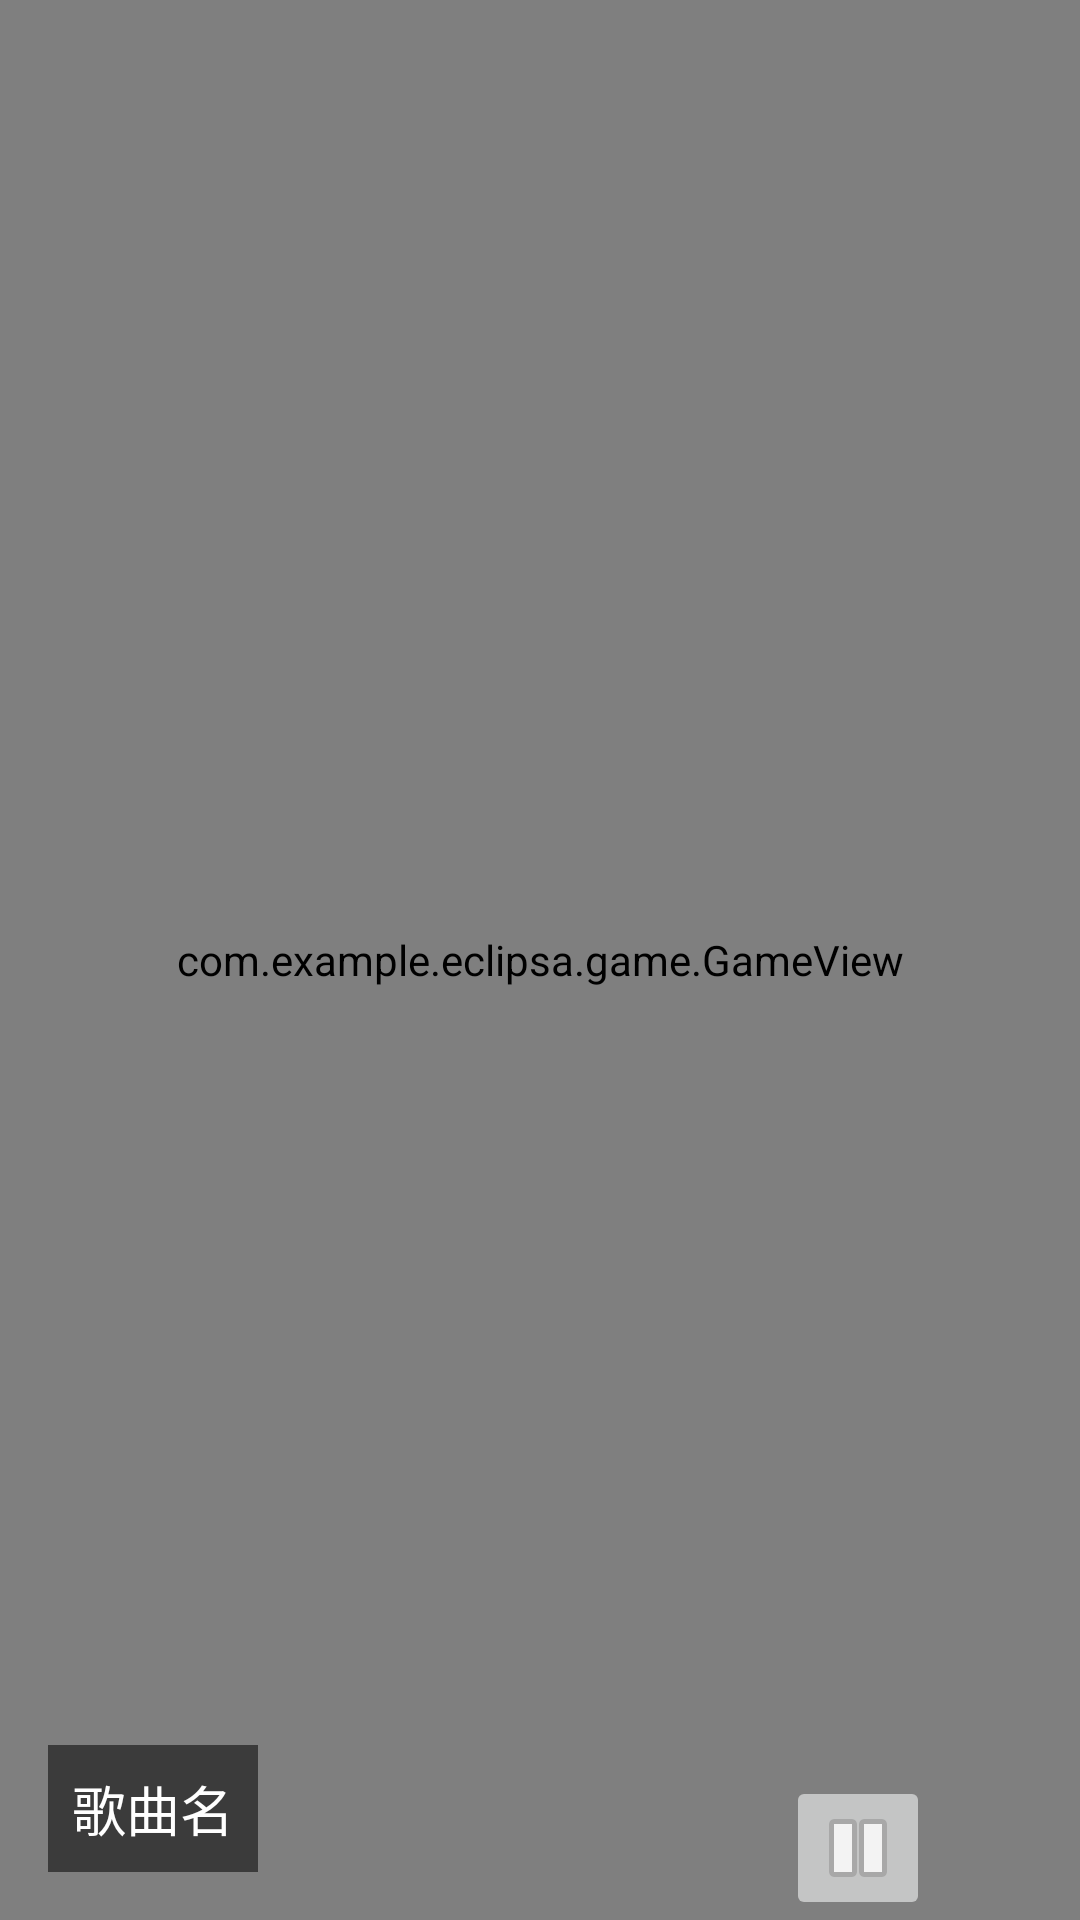

Screen size 1080 x 1920. Icon name, then its center in pixels as (x,y):
pause: (858,1848)
